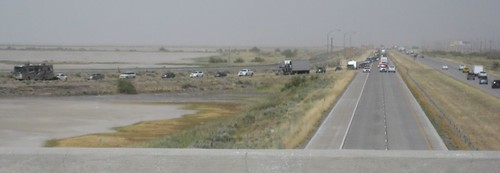car: (237, 64, 256, 78), (210, 65, 229, 79), (190, 66, 209, 80), (158, 69, 176, 82)
road: (324, 46, 438, 153)
sky: (4, 1, 500, 43)
truck: (278, 55, 313, 76)
